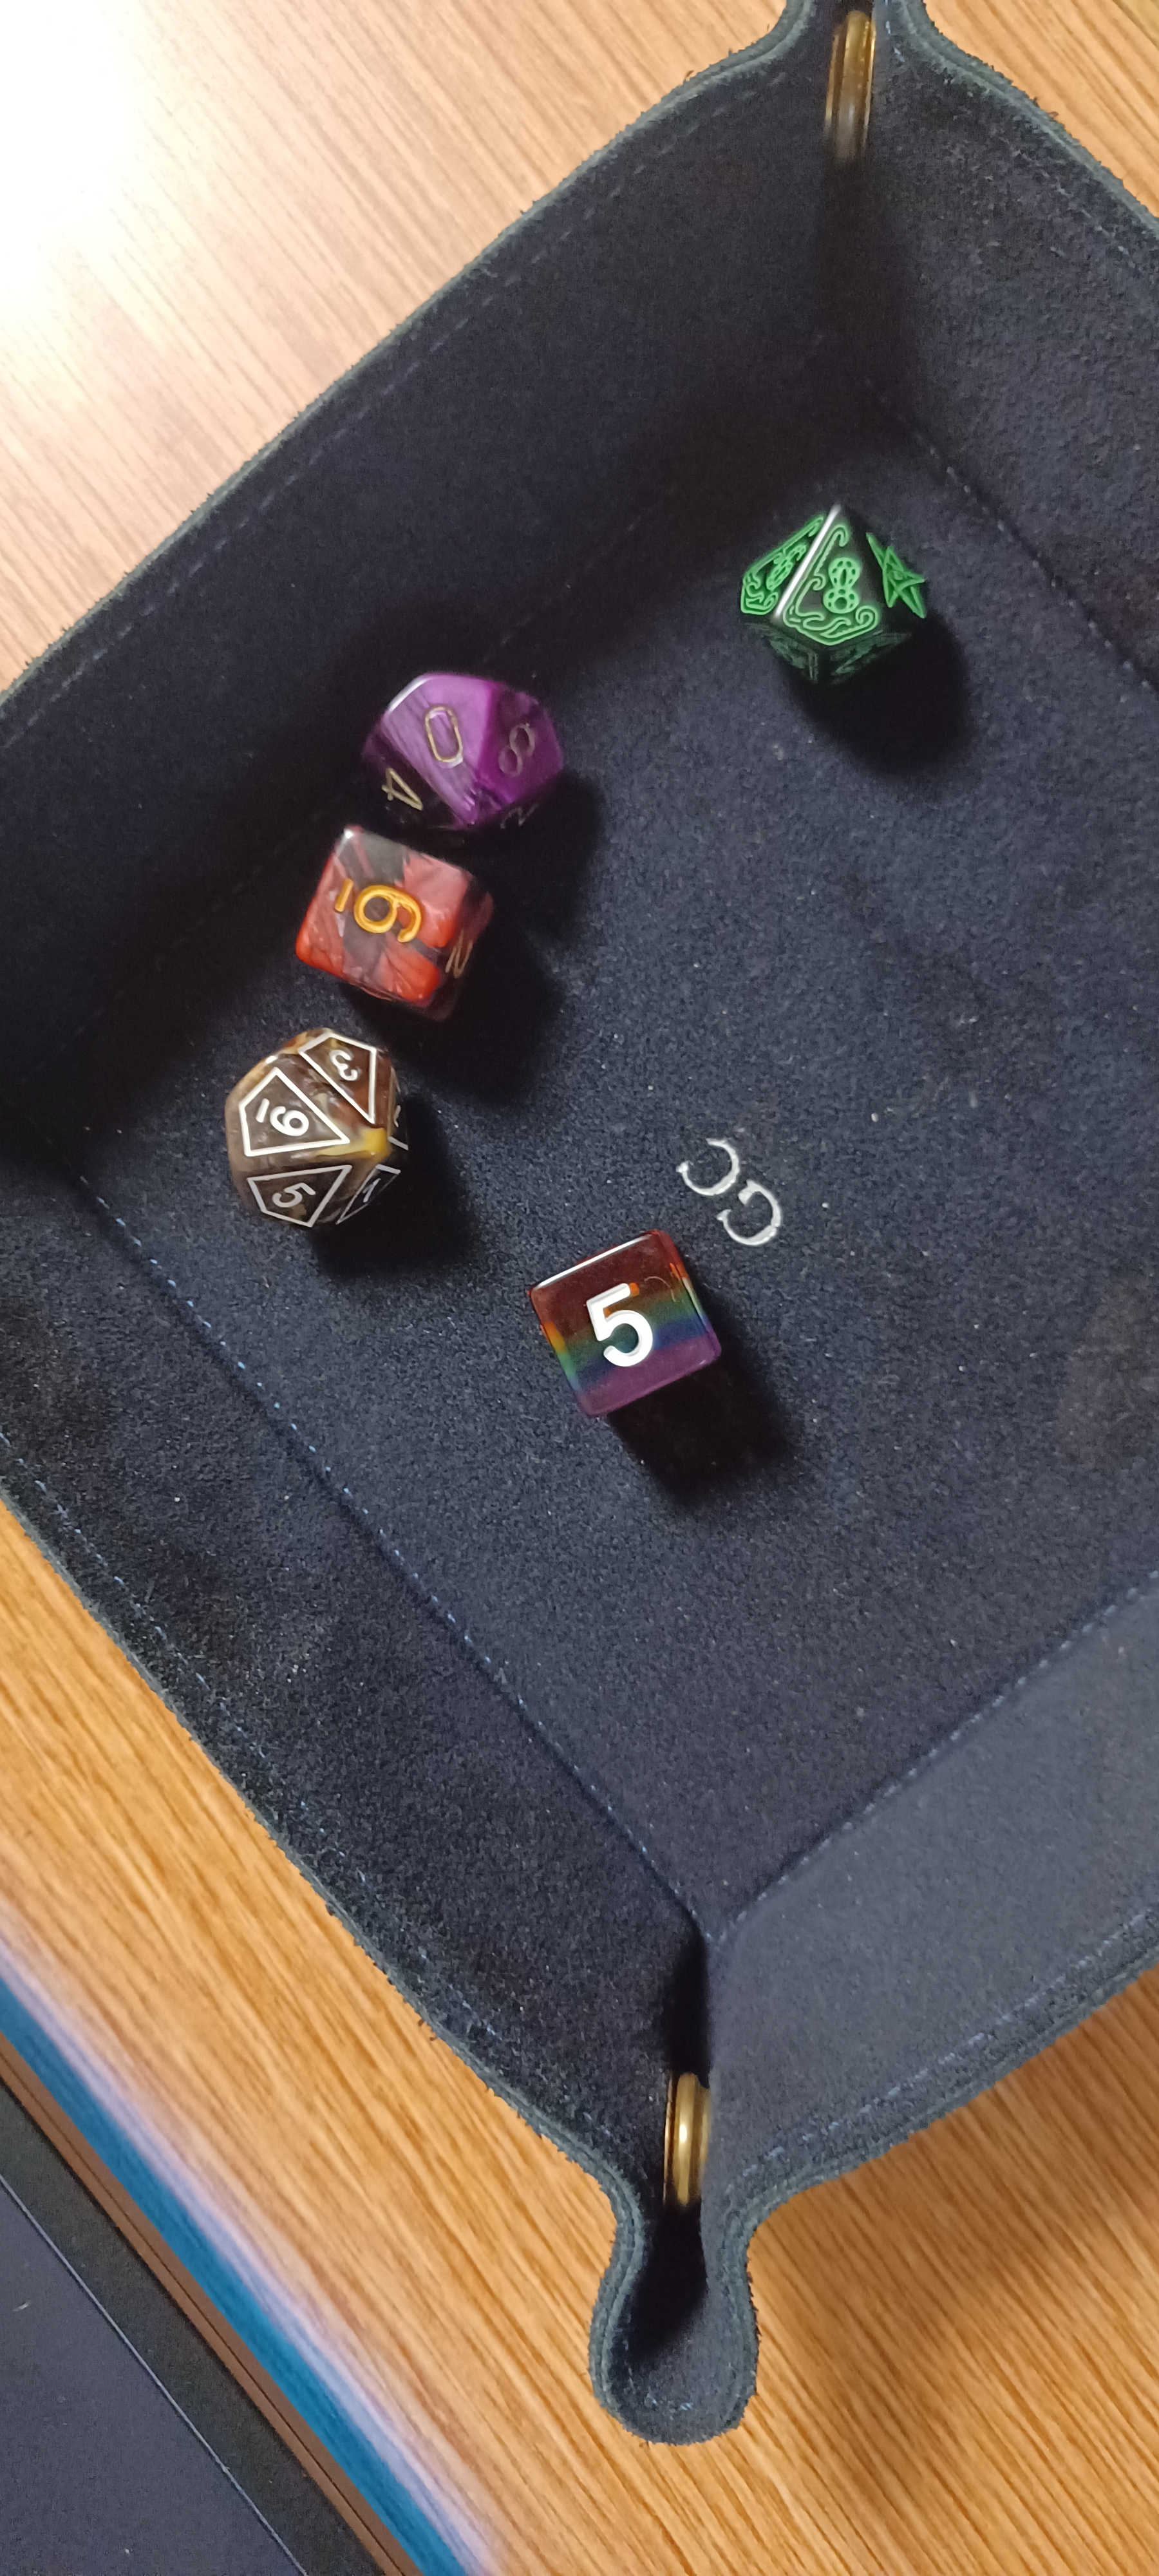eight: (709, 478, 972, 716)
five: (506, 1198, 752, 1457)
nine: (174, 1014, 440, 1245)
six: (253, 792, 519, 1030)
zero: (332, 655, 602, 853)
